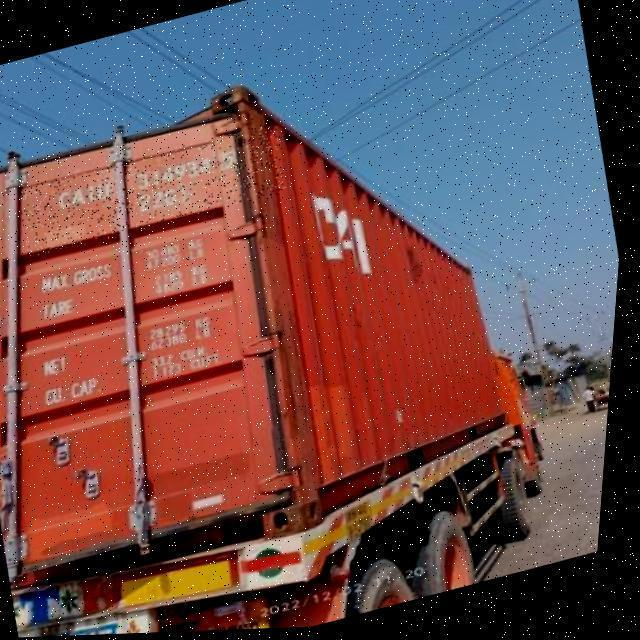container_number_h: (16, 122, 295, 260)
